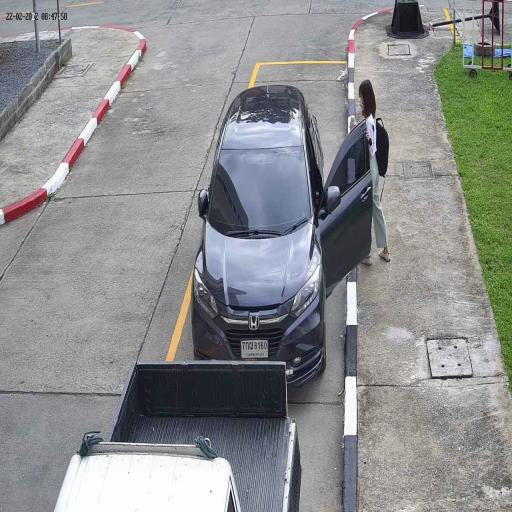car: (191, 83, 326, 388), (51, 359, 303, 512)
